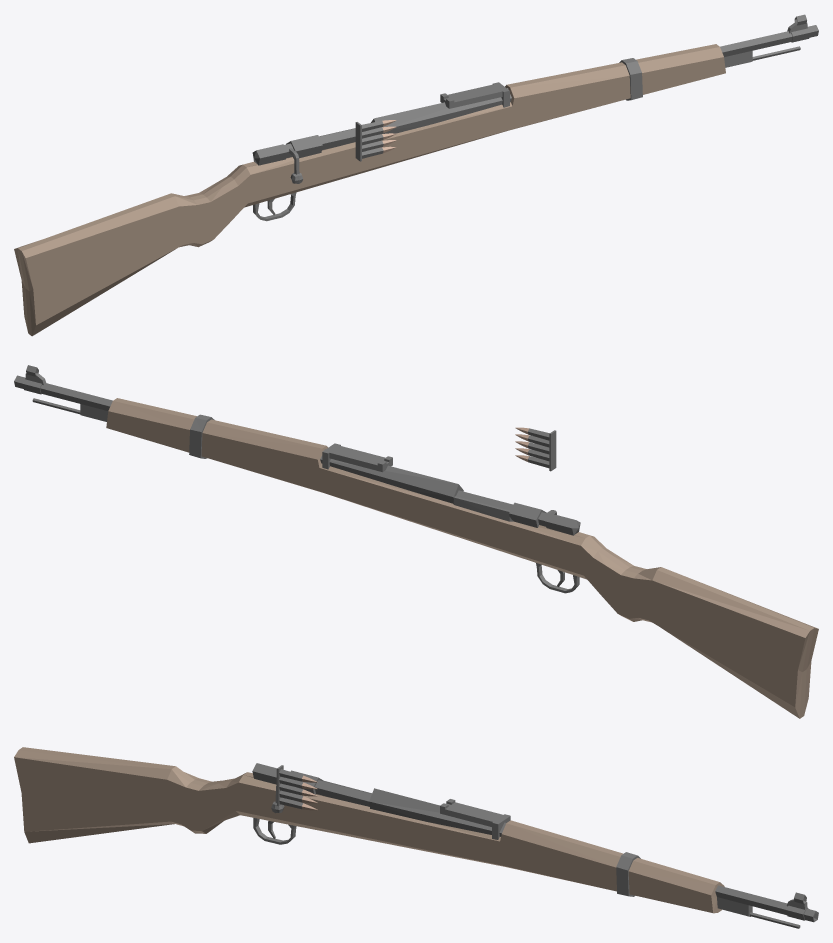
The model's file is w_kar98.glb.
3 renders of one model, top to bottom at view 1: azimuth 30°, elevation 25°; view 2: azimuth 150°, elevation 25°; view 3: azimuth 330°, elevation 25°, orthographic. The views are drawn at different scales.
Visible parts, largest first — view 1: hull; view 2: hull; view 3: hull.
Part boxes in pixels (left/top/right/bottom): hull: left=14, top=14, right=818, bottom=336; hull: left=14, top=365, right=818, bottom=718; hull: left=14, top=747, right=818, bottom=928.
Bounding box in the file's own units: 1.1 × 0.2336 × 0.1284.
